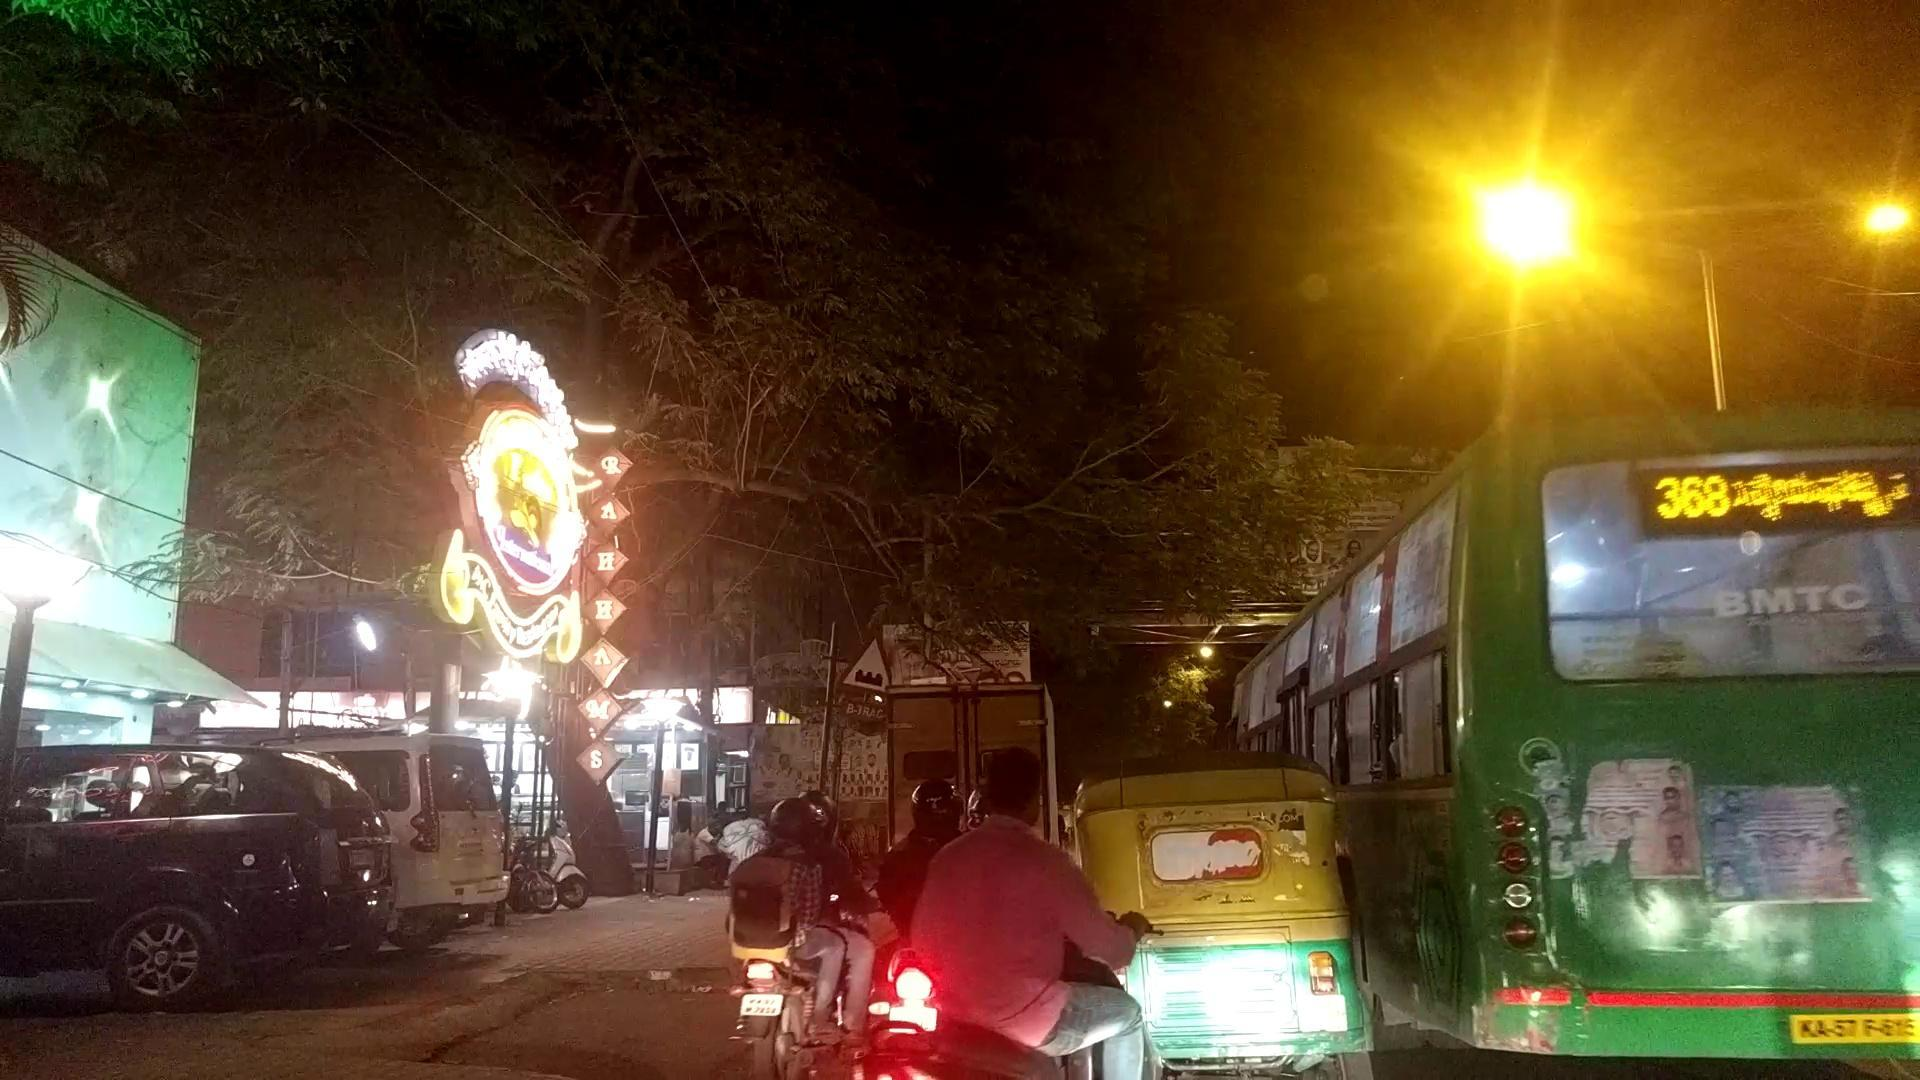on: (50, 0, 1920, 1080)
